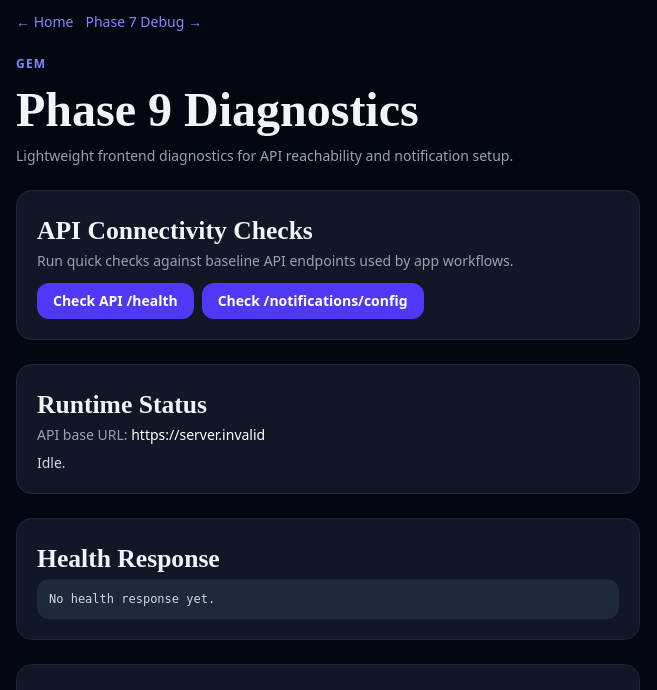
it: Phase9DiagnosticsPage › loads health status successfully
Click the button "Check API /health".
click(115, 301)  # box [37, 283, 194, 319]
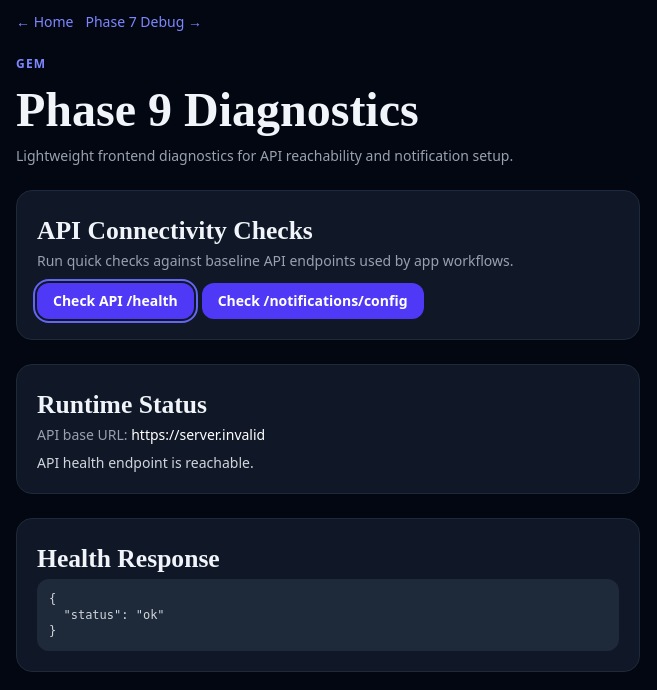
Now the text "API health endpoint is reachable." is shown, box [37, 453, 254, 472]
Now the text "{ \"status\": \"ok\" }" is shown, box [37, 579, 619, 651]
